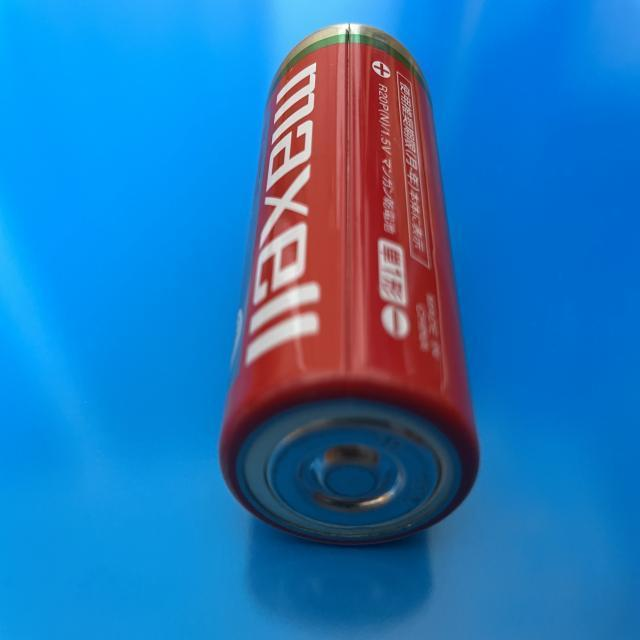AA: (218, 21, 482, 570)
